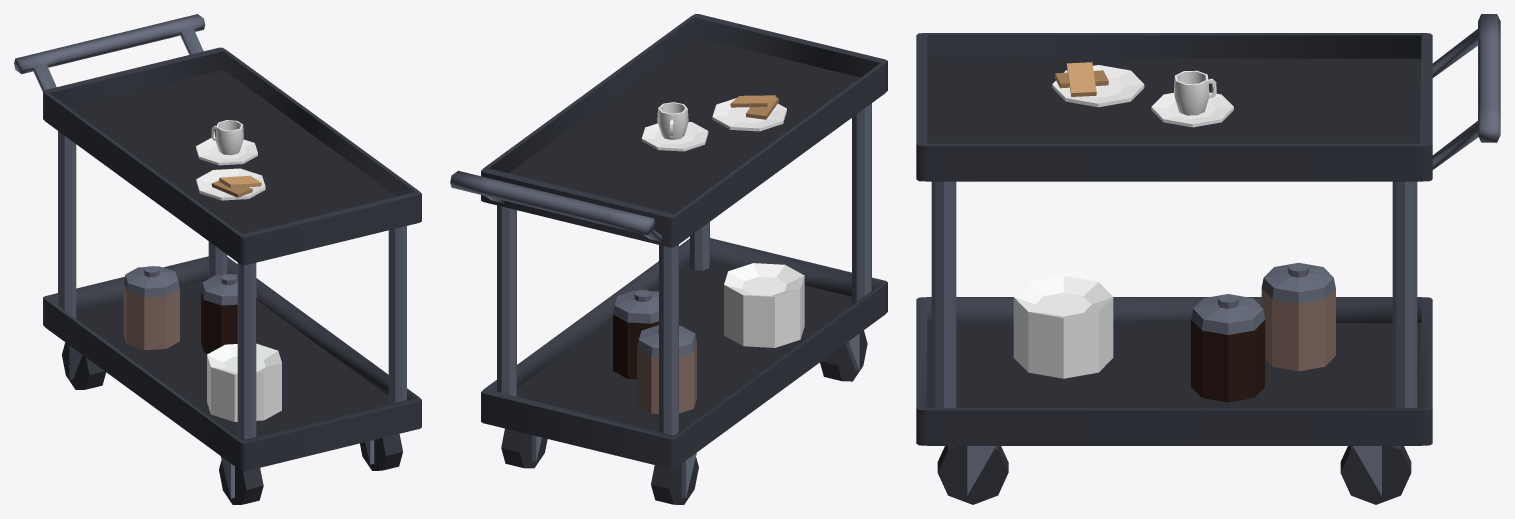
The model's file is Tea_Trolley.fbx.
3 renders of one model, left to right at view 1: azimuth 30°, elevation 25°; view 2: azimuth 150°, elevation 25°; view 3: azimuth 270°, elevation 25°, orthographic. The views are drawn at different scales.
Parts seen in each view (by area): view 1: Tea_Trolley; view 2: Tea_Trolley; view 3: Tea_Trolley.
Boxes of the visible parts, box(x1,y1,x2,y2) form: Tea_Trolley: box(14, 14, 421, 504); Tea_Trolley: box(450, 14, 887, 504); Tea_Trolley: box(916, 14, 1500, 504).
Bounding box in the file's own units: 0.61 × 0.9587 × 1.32.
